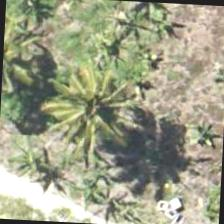Kelapa_Sawit: (44, 58, 139, 152)
